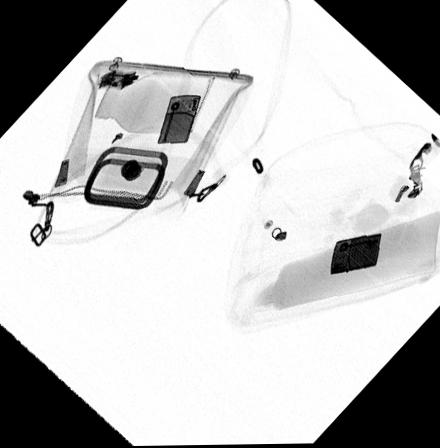Lighter: (157, 94, 201, 144), (329, 234, 380, 276)
